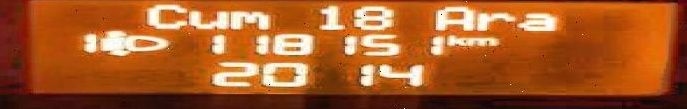0: (256, 60, 312, 87)
1: (310, 4, 347, 31), (347, 61, 375, 86), (200, 32, 228, 55), (244, 32, 268, 55), (74, 30, 98, 53), (419, 35, 442, 56), (335, 32, 354, 56)
2: (207, 60, 256, 88)
4: (375, 61, 428, 86)
5: (357, 32, 401, 56)
8: (349, 3, 396, 30), (270, 32, 314, 56)
X: (140, 2, 186, 30), (429, 4, 473, 31), (515, 11, 559, 32), (226, 9, 270, 30), (186, 8, 226, 30), (475, 11, 514, 32), (463, 35, 498, 46), (443, 33, 464, 46)
